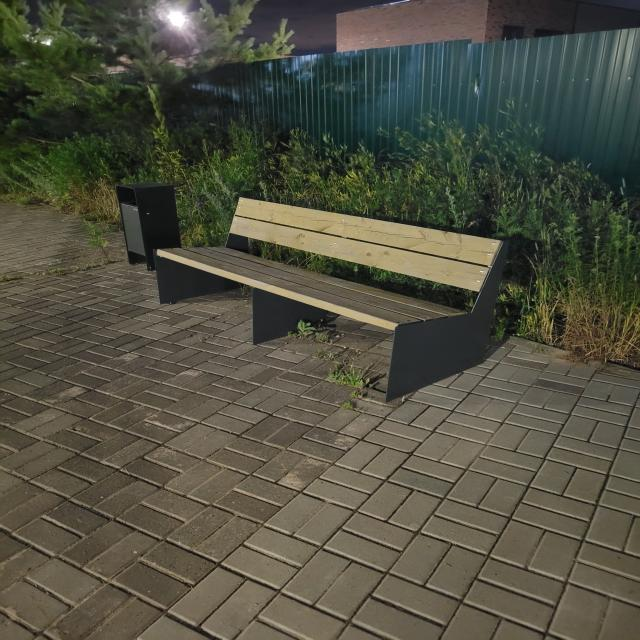Bench: (154, 197, 509, 404)
